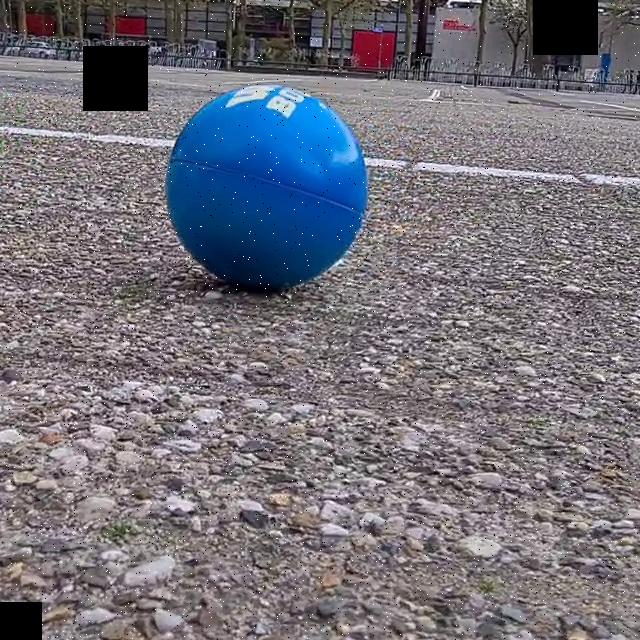ball: (162, 82, 374, 297)
